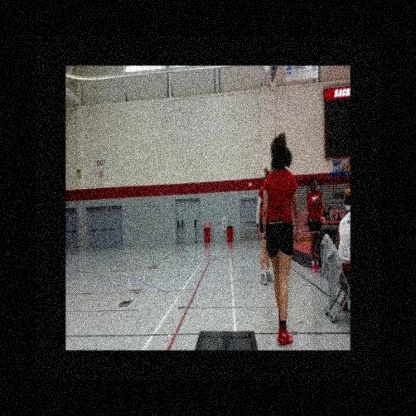lateral_flexion_left: (262, 130, 303, 347)
stance_width_narrow: (261, 168, 301, 345)
